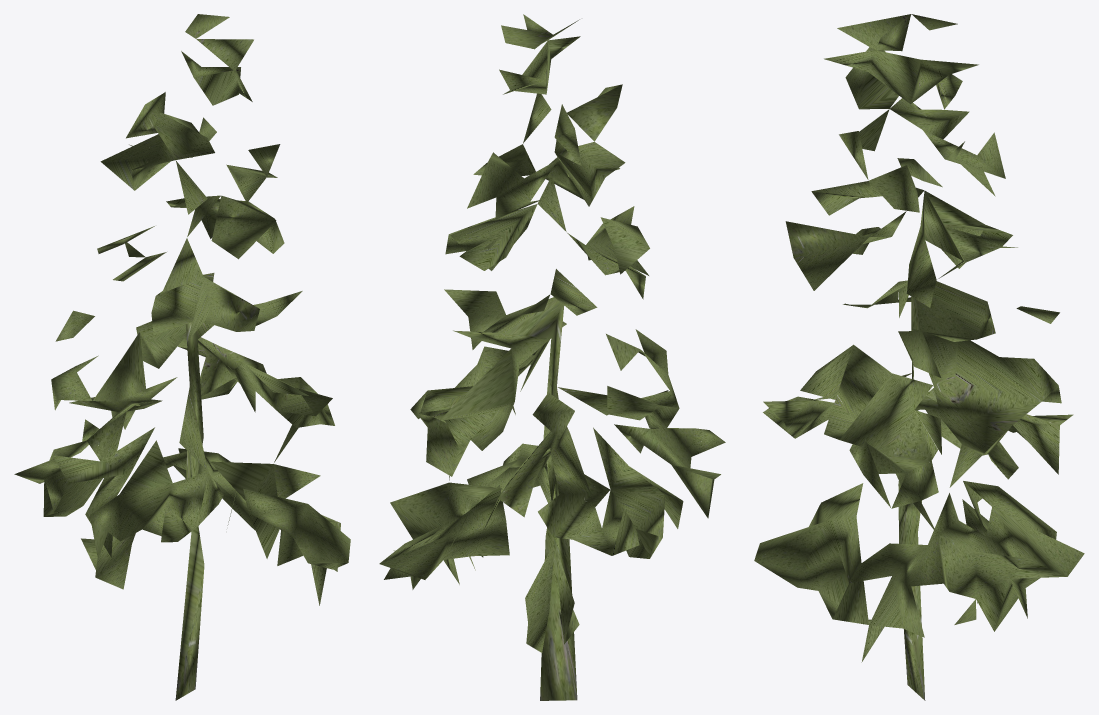
The model's file is abies-fabri-l3.glb.
3 renders of one model, left to right at view 1: azimuth 30°, elevation 25°; view 2: azimuth 150°, elevation 25°; view 3: azimuth 270°, elevation 25°, orthographic. The views are drawn at different scales.
Parts seen in each view (by area): view 1: geometry_0; view 2: geometry_0; view 3: geometry_0.
Boxes of the visible parts, box(x1,y1,x2,y2) form: geometry_0: box(14, 14, 350, 700); geometry_0: box(379, 14, 725, 700); geometry_0: box(754, 14, 1084, 700).
Bounding box in the file's own units: 3.21 × 7.32 × 3.18.
1 material, 1 textured.
